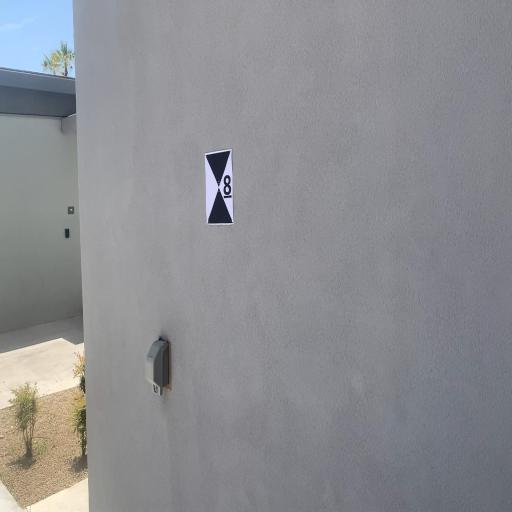target8: (205, 148, 234, 224)
